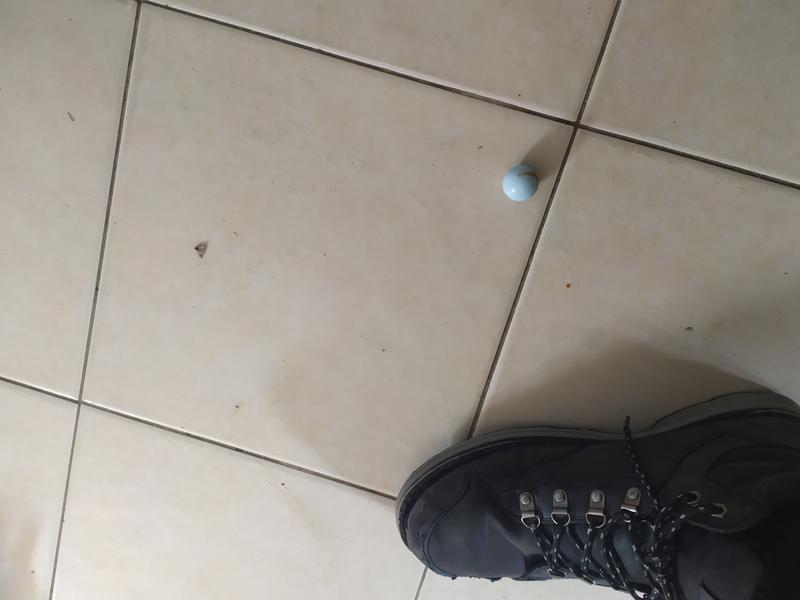Warning: (500, 161, 541, 203)
